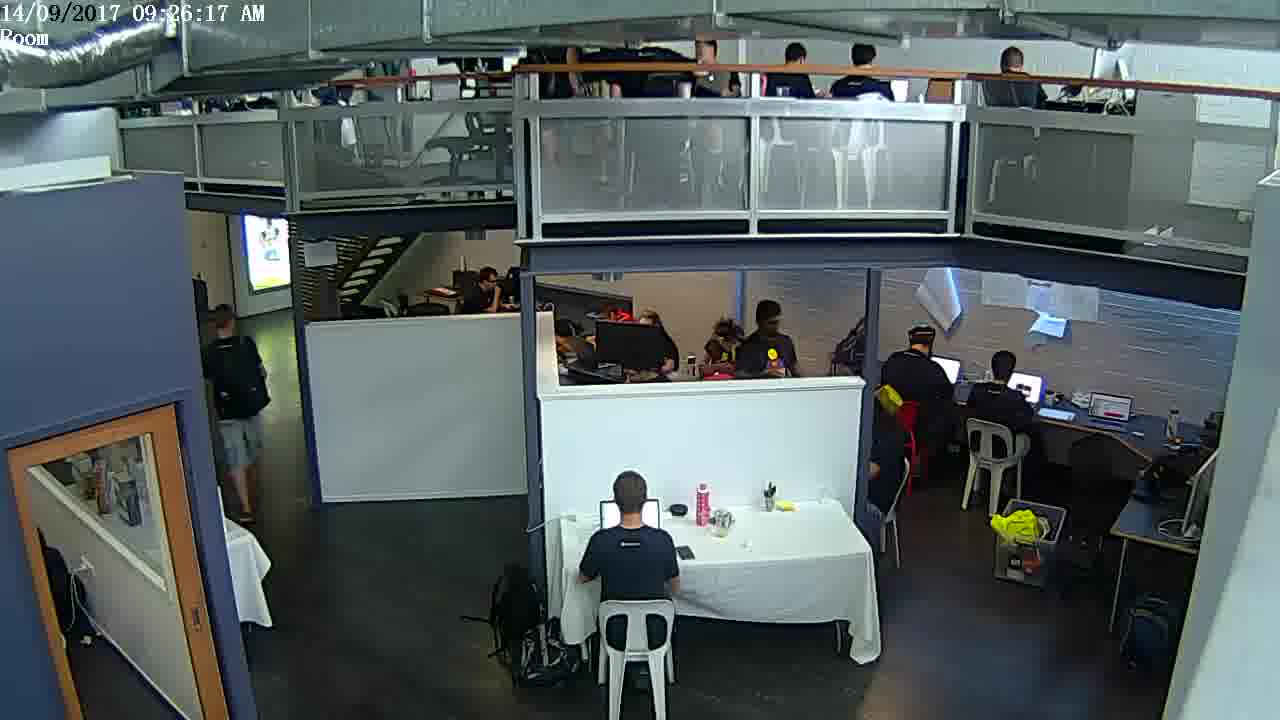good: (549, 467, 660, 592), (400, 514, 493, 604), (681, 437, 768, 525)
